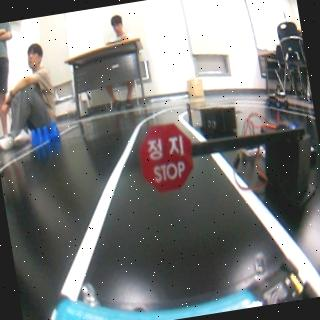stop: (134, 122, 198, 194)
